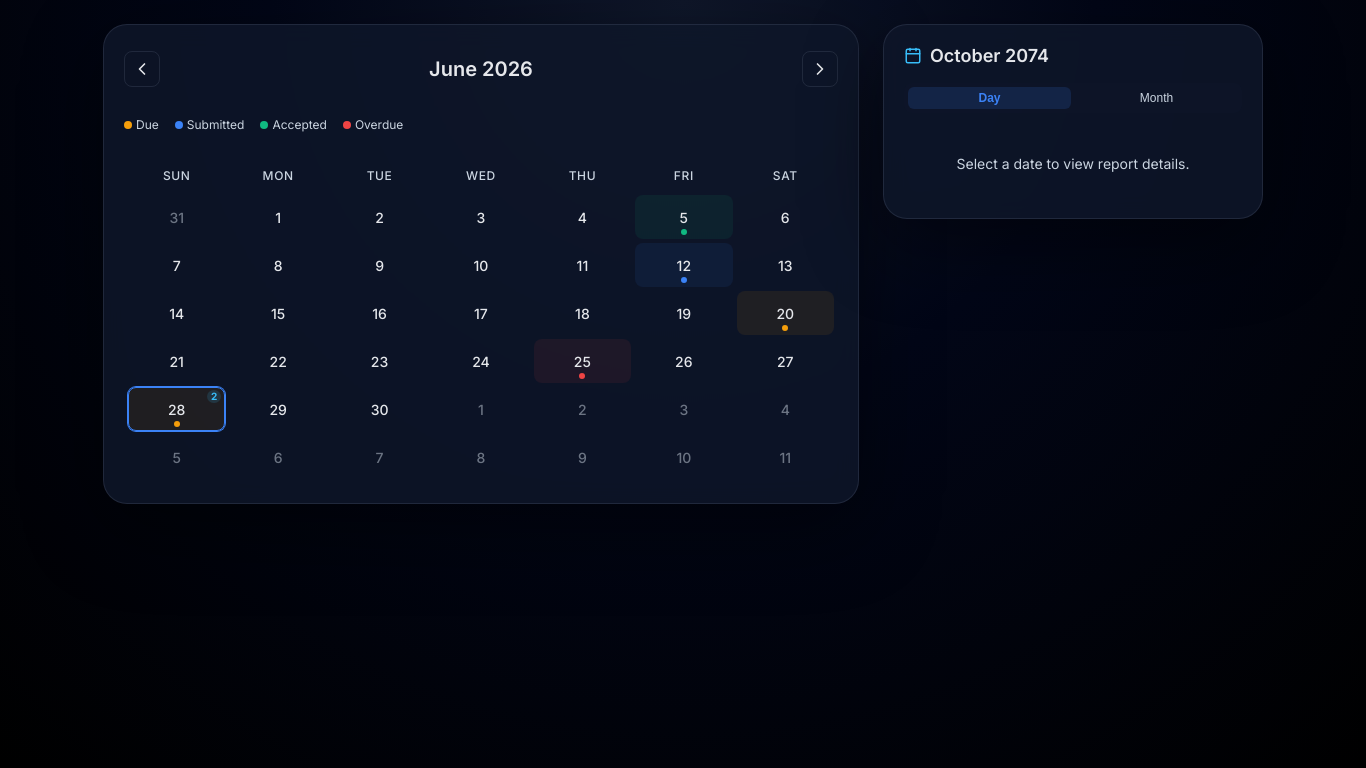
Test: RevenueReportingCalendar › Month view in panel › shows quick submit CTA for pending reports in month view
Click the tab "Month" at coordinates (1156, 98), box top-left (1075, 87), bottom-right (1238, 109)
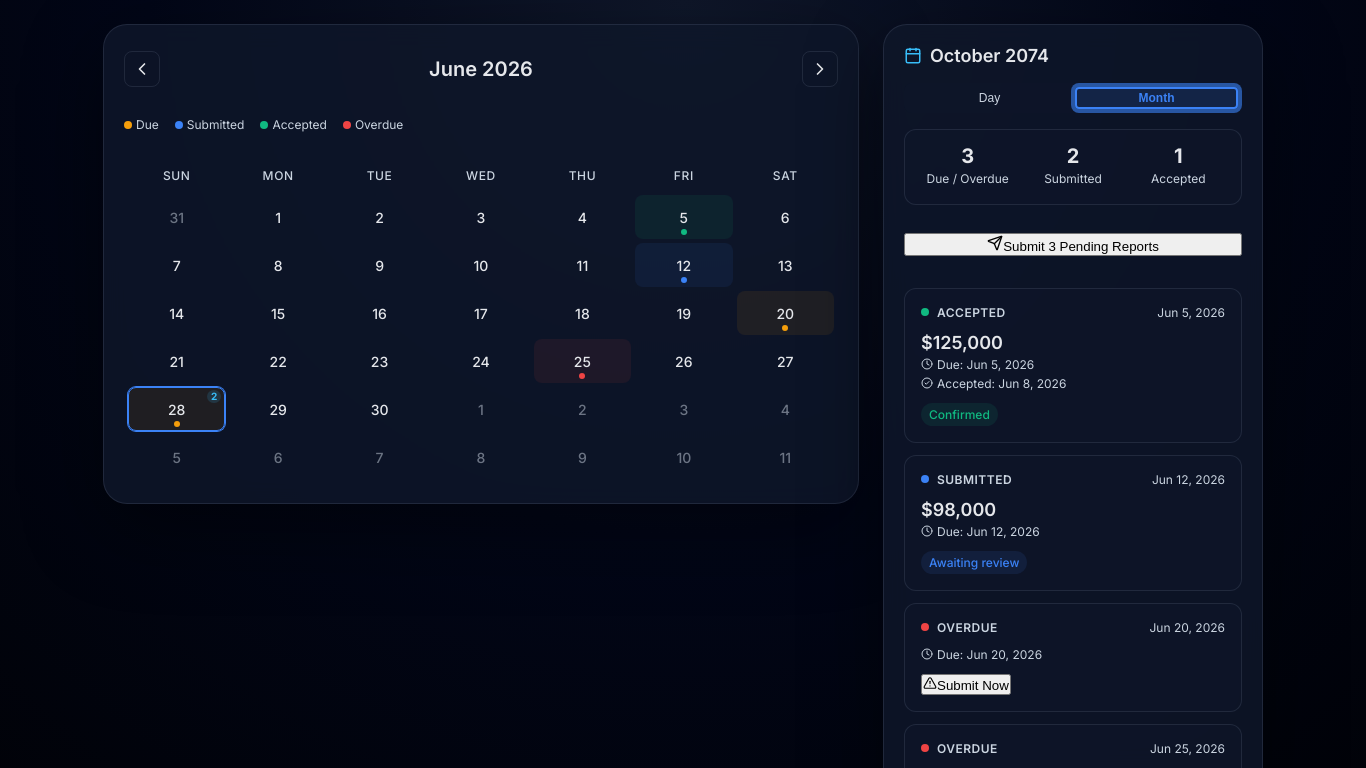
Result: the button "Submit 3 Pending Reports" is shown at top-left (904, 233), bottom-right (1242, 256)
